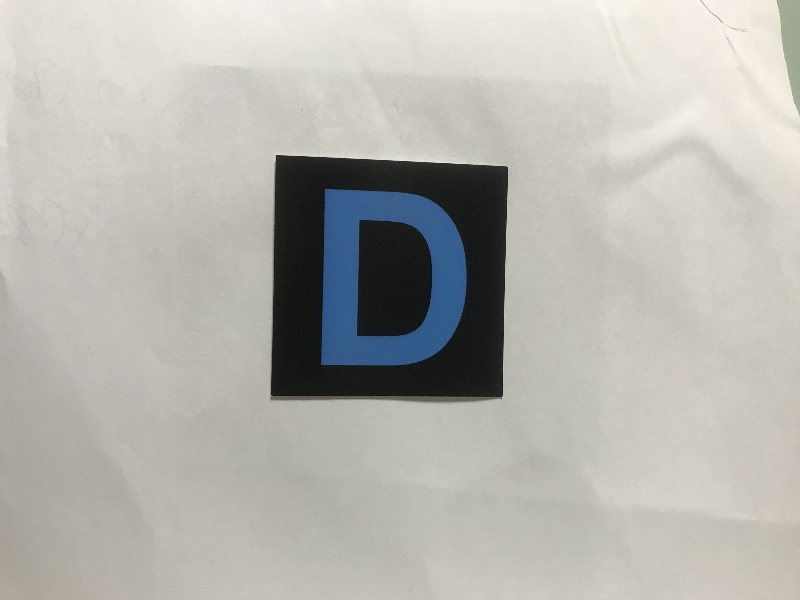D-14: (278, 168, 500, 395)
